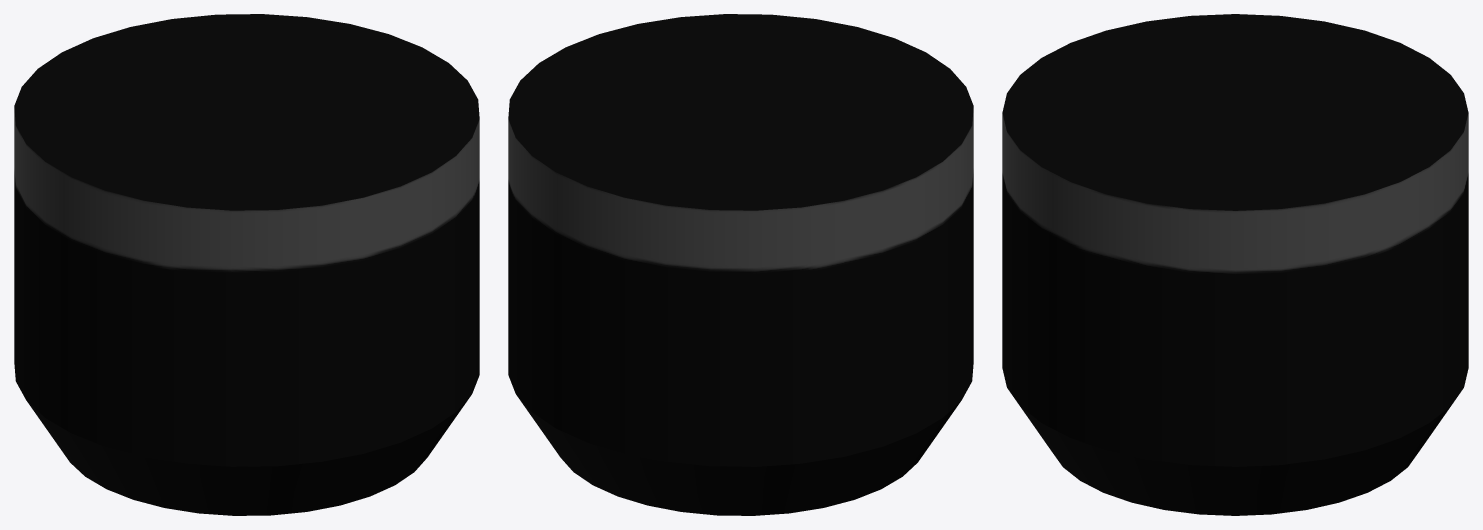
Rendered from hajto v2.fbx.
3 renders of one model, left to right at view 1: azimuth 30°, elevation 25°; view 2: azimuth 150°, elevation 25°; view 3: azimuth 270°, elevation 25°, orthographic.
Visible parts, largest first — view 1: hajtómű; view 2: hajtómű; view 3: hajtómű.
Part boxes in pixels (x1,y1,x2,y2): hajtómű: (14, 14, 479, 515); hajtómű: (508, 14, 973, 515); hajtómű: (1002, 14, 1468, 515).
Size of the model in its own units: 250 by 192 by 250.
Materials: 1 (1 with a texture image).
